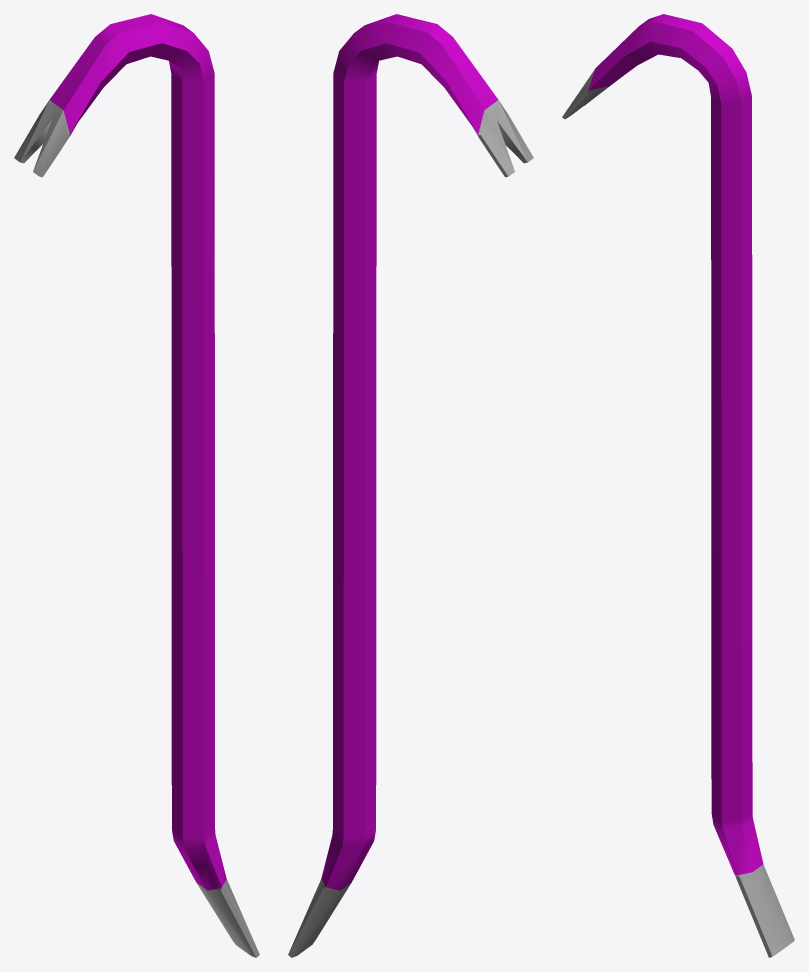
Rendered from WW_crowbar_prop.fbx.
The picture shows the model from 3 angles, left to right: view 1: azimuth 30°, elevation 25°; view 2: azimuth 150°, elevation 25°; view 3: azimuth 330°, elevation 25°; orthographic projection. The views are drawn at different scales.
Parts seen in each view (by area): view 1: crowbar_geo; view 2: crowbar_geo; view 3: crowbar_geo.
Part boxes in pixels (left/top/right/bottom): crowbar_geo: left=14, top=14, right=259, bottom=957; crowbar_geo: left=288, top=14, right=533, bottom=957; crowbar_geo: left=562, top=14, right=794, bottom=957.
Size of the model in its own units: 18.13 by 74.07 by 4.01.
